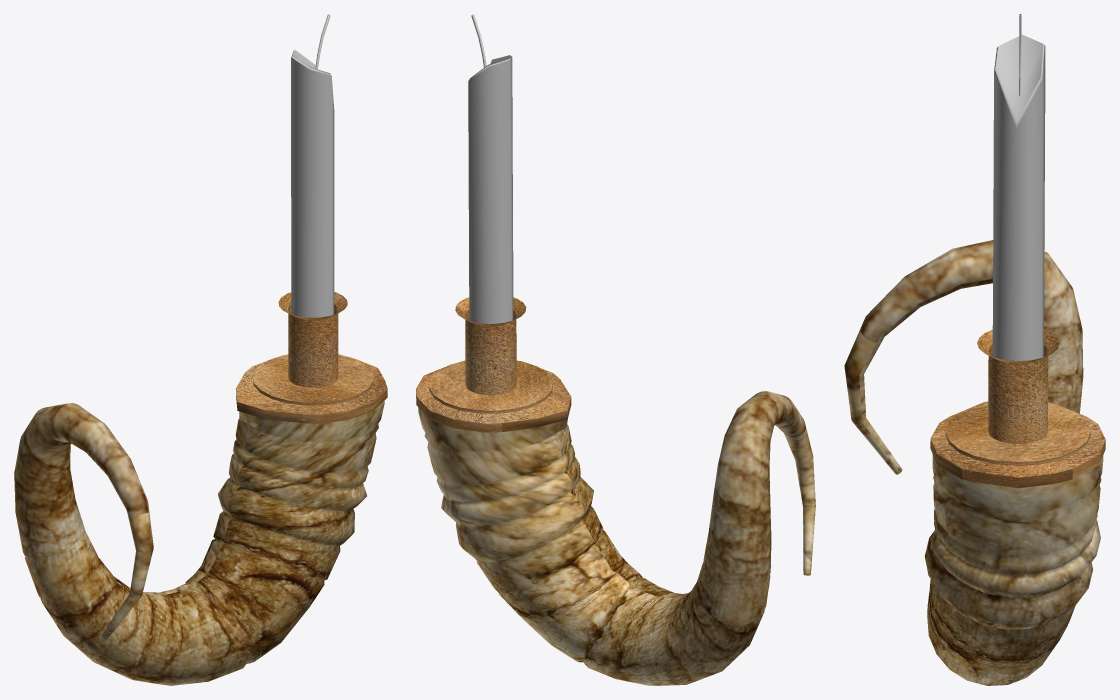
The model's file is Ram_Candle.fbx.
The picture shows the model from 3 angles, left to right: view 1: azimuth 30°, elevation 25°; view 2: azimuth 150°, elevation 25°; view 3: azimuth 270°, elevation 25°; orthographic projection. The views are drawn at different scales.
Parts seen in each view (by area): view 1: polySurface2, polySurface9.001, polySurface3, polySurface1, polySurface5; view 2: polySurface2, polySurface9.001, polySurface3, polySurface1, polySurface5; view 3: polySurface2, polySurface9.001, polySurface3, polySurface5, polySurface1.
Boxes of the visible parts, x1,y1,x2,y2 form: polySurface2: [14, 400, 384, 685]; polySurface9.001: [291, 14, 334, 317]; polySurface3: [278, 292, 347, 387]; polySurface1: [236, 359, 387, 423]; polySurface5: [252, 354, 373, 405]; polySurface2: [418, 391, 815, 685]; polySurface9.001: [468, 14, 513, 323]; polySurface3: [455, 297, 526, 395]; polySurface1: [416, 367, 571, 432]; polySurface5: [429, 360, 552, 413]; polySurface2: [844, 240, 1103, 685]; polySurface9.001: [992, 14, 1045, 360]; polySurface3: [977, 330, 1059, 443]; polySurface5: [945, 403, 1090, 465]; polySurface1: [930, 401, 1105, 488].
Bounding box in the file's own units: 601 × 1025 × 328.
